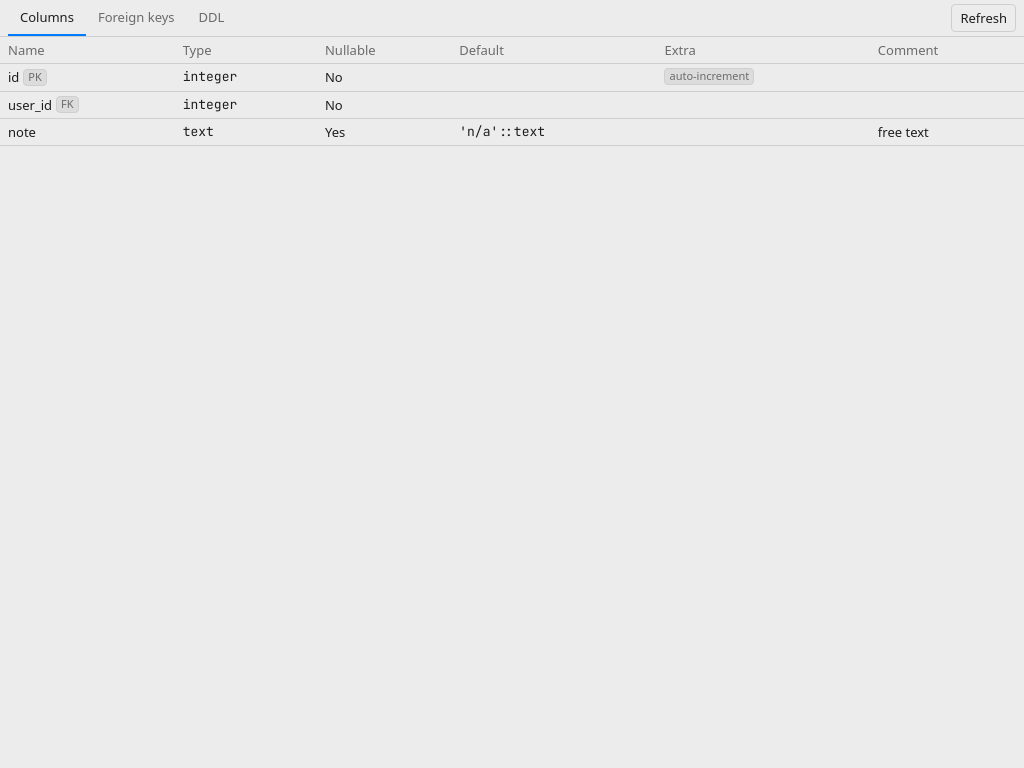
Test: DDL is shown read-only and Copy writes it to the clipboard
Step 1. Click the tab "DDL" → (212, 18), box [187,0,236,36]
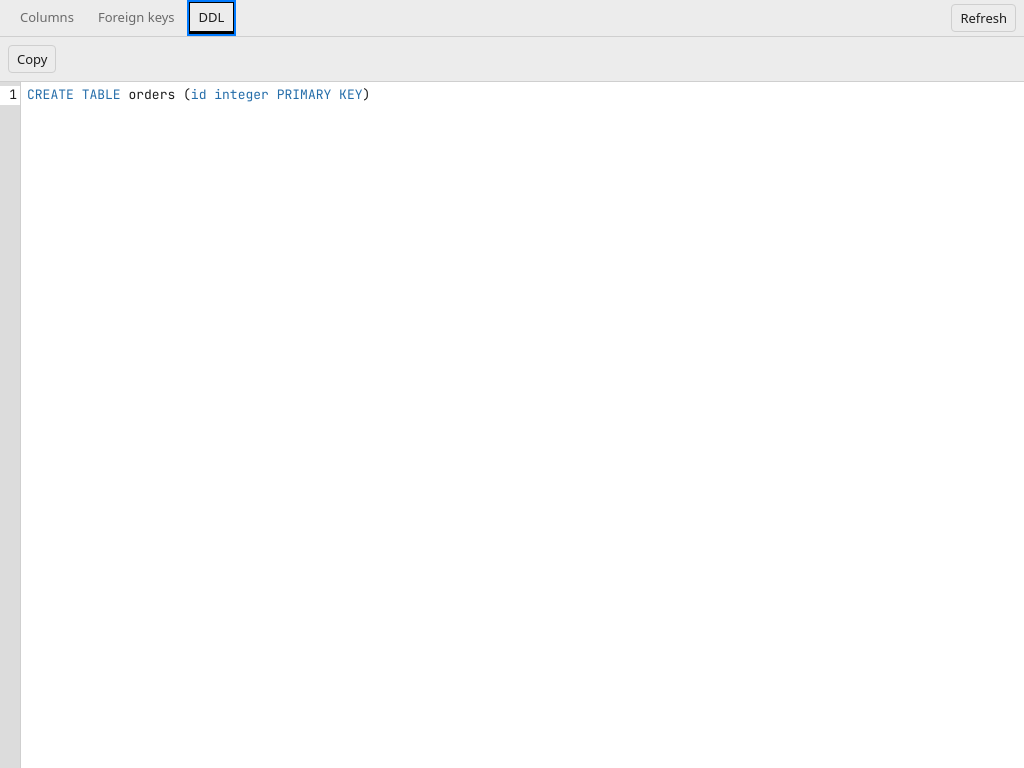
Expected: the element named "Table DDL" shows "CREATE TABLE orders (id integer PRIMARY KEY)"
Step 2. Click the button "Copy" → (32, 59), box [8,45,56,73]
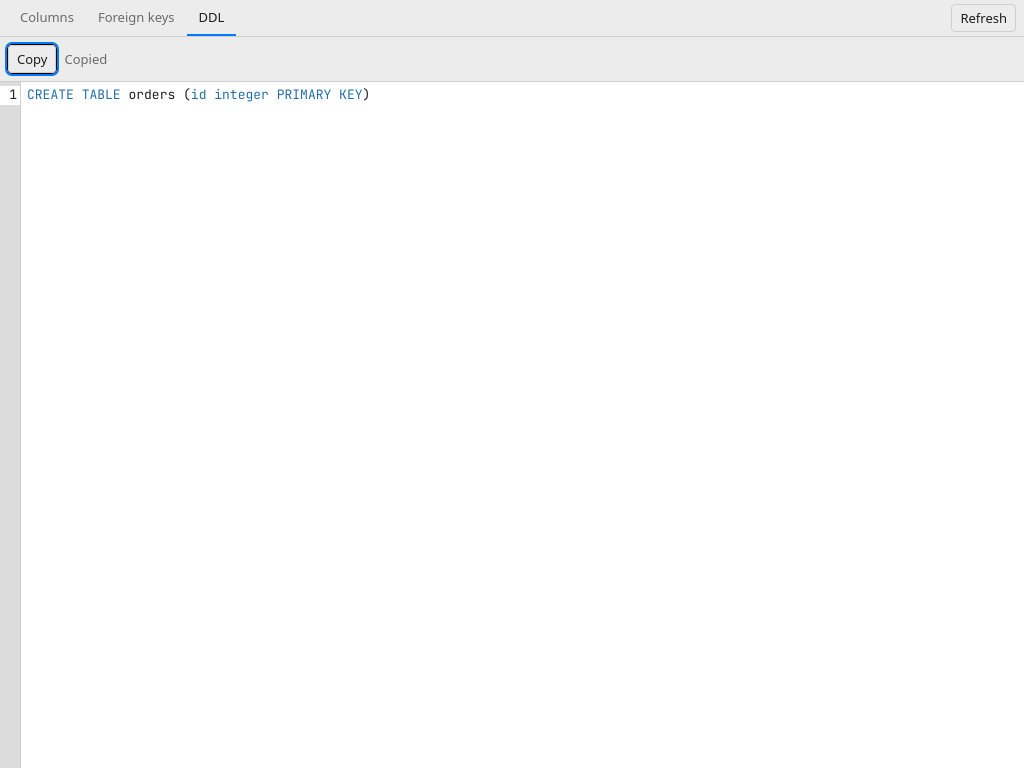
Expected: the text "Copied" is shown, [64,50,107,68]
